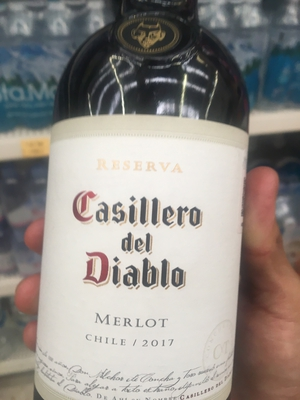casillero del diablo merlot: (35, 16, 251, 400)
